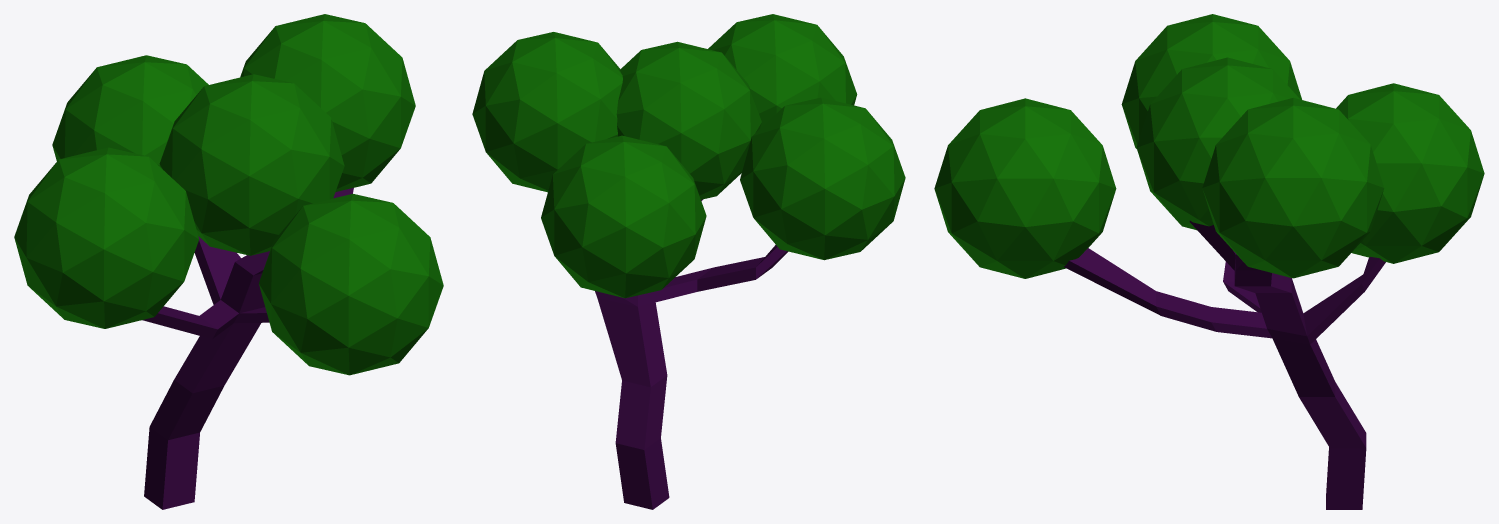
File: Tree1.fbx
3 views of the same model, side by side, from view 1: azimuth 30°, elevation 25°; view 2: azimuth 150°, elevation 25°; view 3: azimuth 270°, elevation 25° (orthographic). The views are drawn at different scales.
Parts seen in each view (by area): view 1: Sphere_4, Sphere_1, Sphere_2, Sphere, Cube, Sphere_3; view 2: Sphere_1, Sphere_3, Sphere, Sphere_2, Cube, Sphere_4; view 3: Sphere, Sphere_4, Cube, Sphere_3, Sphere_2, Sphere_1.
Part boxes in pixels (x1,y1,x2,y2): Sphere_4: [258, 193, 443, 375]; Sphere_1: [14, 147, 199, 328]; Sphere_2: [159, 74, 344, 255]; Sphere: [240, 14, 415, 191]; Cube: [142, 187, 353, 509]; Sphere_3: [52, 55, 208, 166]; Sphere_1: [740, 97, 905, 260]; Sphere_3: [541, 135, 706, 298]; Sphere: [472, 32, 622, 192]; Sphere_2: [616, 41, 761, 199]; Cube: [595, 199, 788, 509]; Sphere_4: [708, 14, 857, 128]; Sphere: [1202, 97, 1384, 278]; Sphere_4: [934, 98, 1116, 278]; Cube: [1064, 220, 1385, 509]; Sphere_3: [1336, 83, 1484, 263]; Sphere_2: [1136, 57, 1299, 230]; Sphere_1: [1121, 14, 1301, 148].
Bounding box in the file's own units: 2607 × 2777 × 3023.
